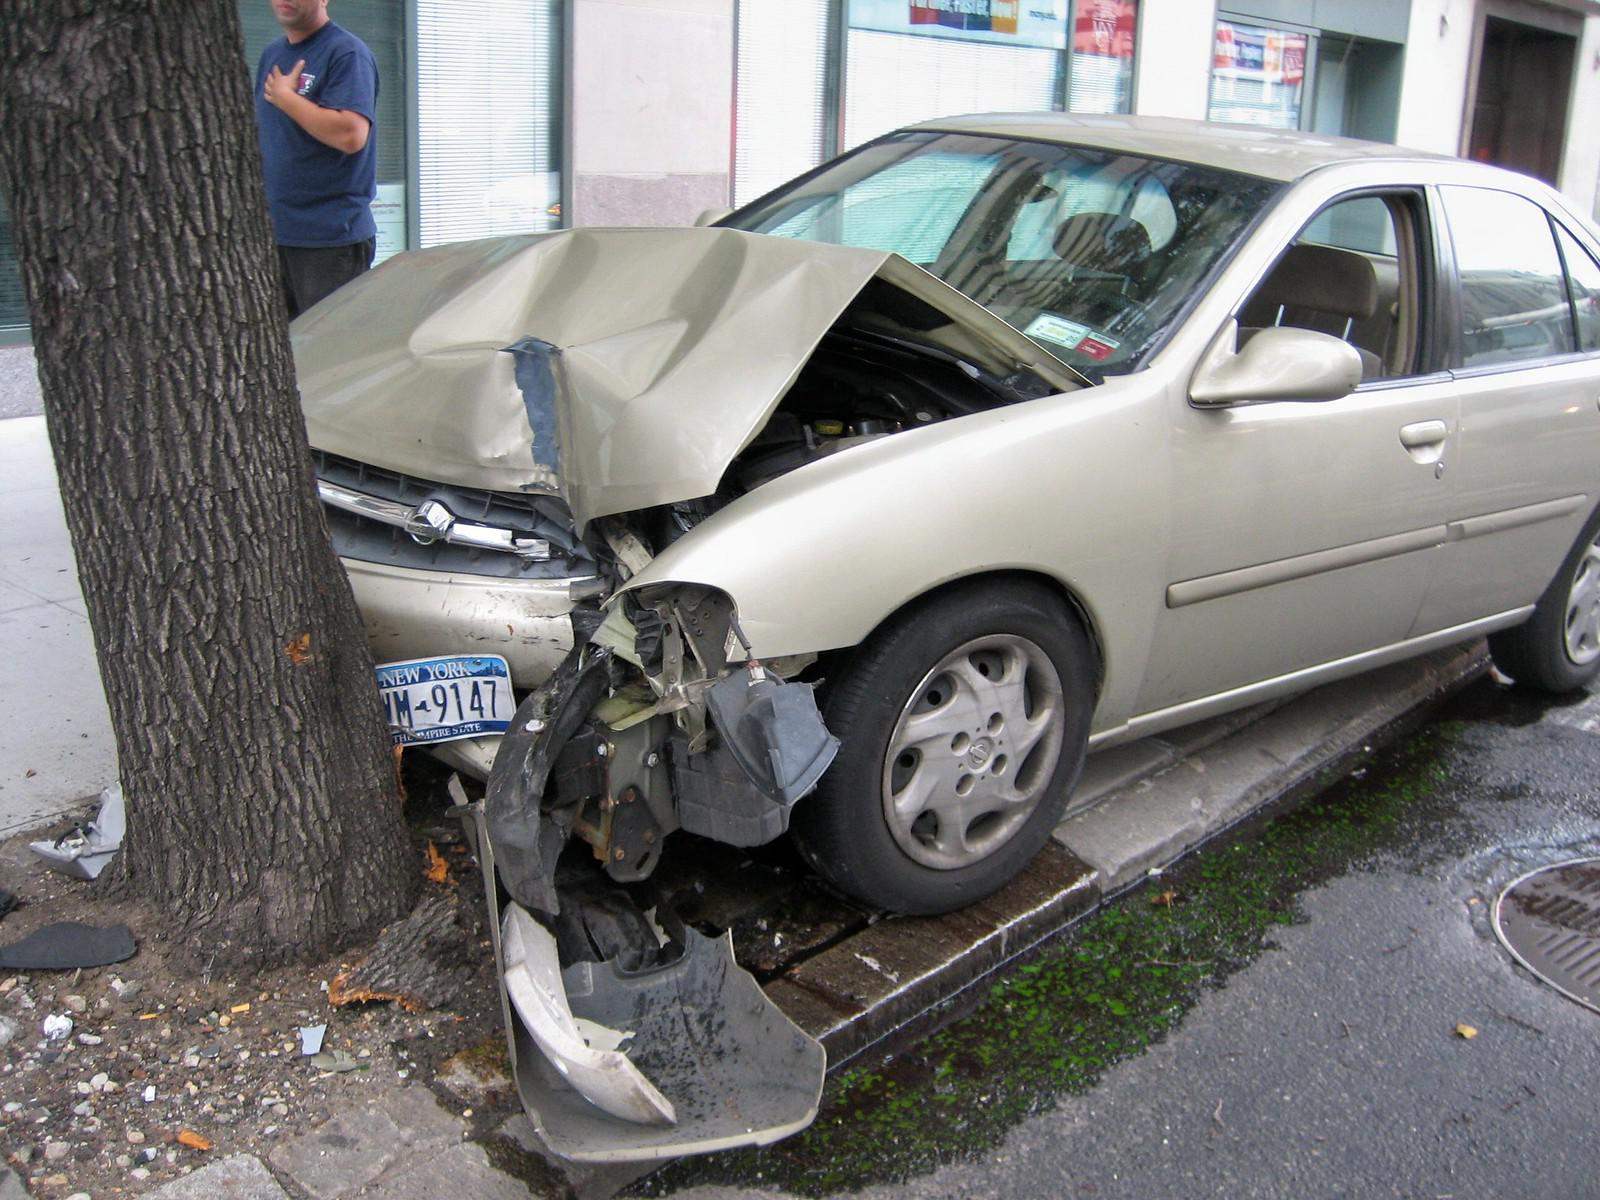Headlight-Damage: (518, 533, 760, 718)
bonnet-dent: (205, 211, 1070, 509)
front-bumper-dent: (251, 566, 656, 823)
